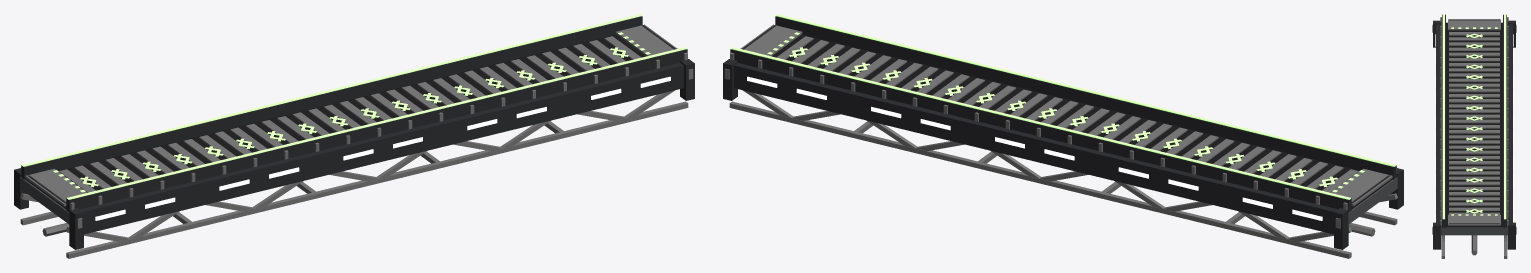
Rendered from Deck_Conveyor_Belt_v4_20.glb.
The picture shows the model from 3 angles, left to right: view 1: azimuth 30°, elevation 25°; view 2: azimuth 150°, elevation 25°; view 3: azimuth 270°, elevation 25°; orthographic projection. The views are drawn at different scales.
Parts seen in each view (by area): view 1: Deck_Conveyor_Belt_v4_20, Treads, TreadsRev; view 2: Deck_Conveyor_Belt_v4_20, Treads, TreadsRev; view 3: Deck_Conveyor_Belt_v4_20, Treads, TreadsRev.
Boxes of the visible parts, left/top/right/bottom form: Deck_Conveyor_Belt_v4_20: left=14, top=14, right=694, bottom=258; Treads: left=59, top=36, right=641, bottom=192; TreadsRev: left=59, top=36, right=640, bottom=192; Deck_Conveyor_Belt_v4_20: left=723, top=14, right=1403, bottom=258; Treads: left=776, top=36, right=1358, bottom=192; TreadsRev: left=777, top=36, right=1358, bottom=192; Deck_Conveyor_Belt_v4_20: left=1432, top=14, right=1516, bottom=258; Treads: left=1449, top=32, right=1499, bottom=214; TreadsRev: left=1449, top=32, right=1499, bottom=214.
Bounding box in the file's own units: 20.05 × 1.83 × 3.48.
